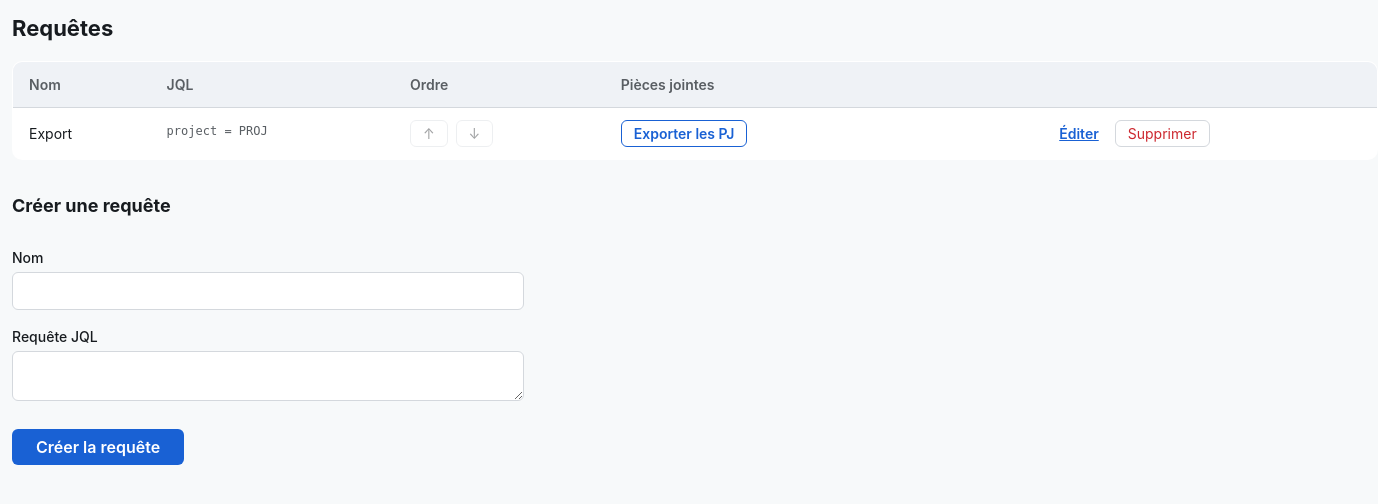
Test: AdminQueries › shows the server error when the export cannot start
Expected: the text "Export" is shown, [12, 108, 151, 160]
Click the button with aria-label "Exporter les pièces jointes de Export": [684, 134] box [621, 120, 747, 147]
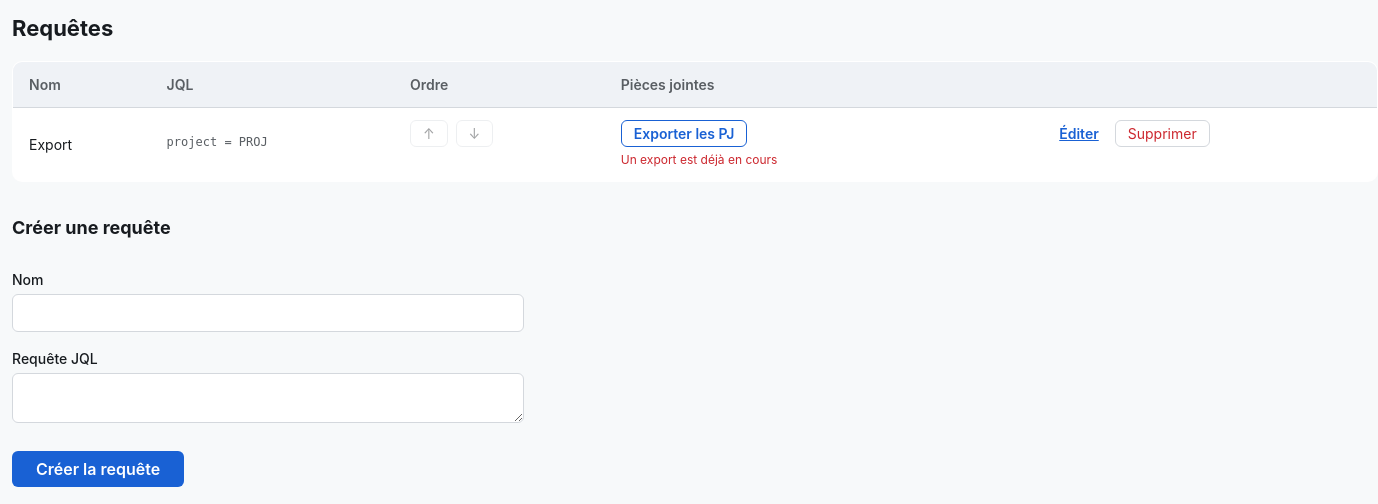
Expected: the message reads "Un export est déjà en cours", [621, 152, 777, 167]
